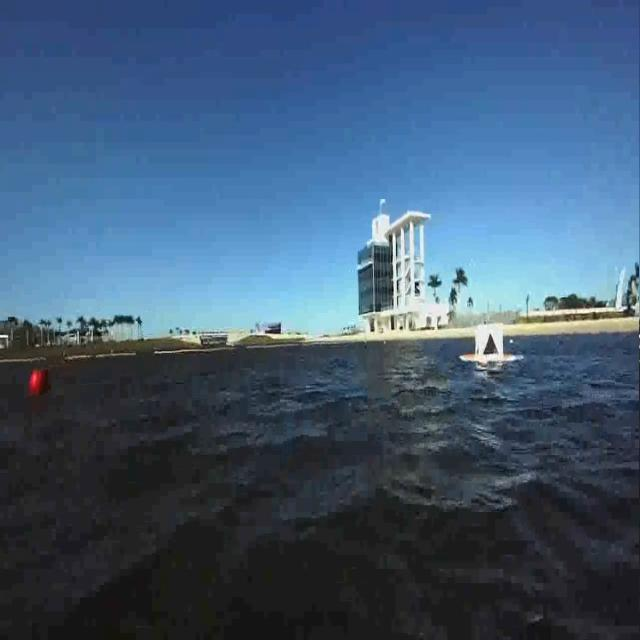red-buoy: (26, 370, 52, 404)
